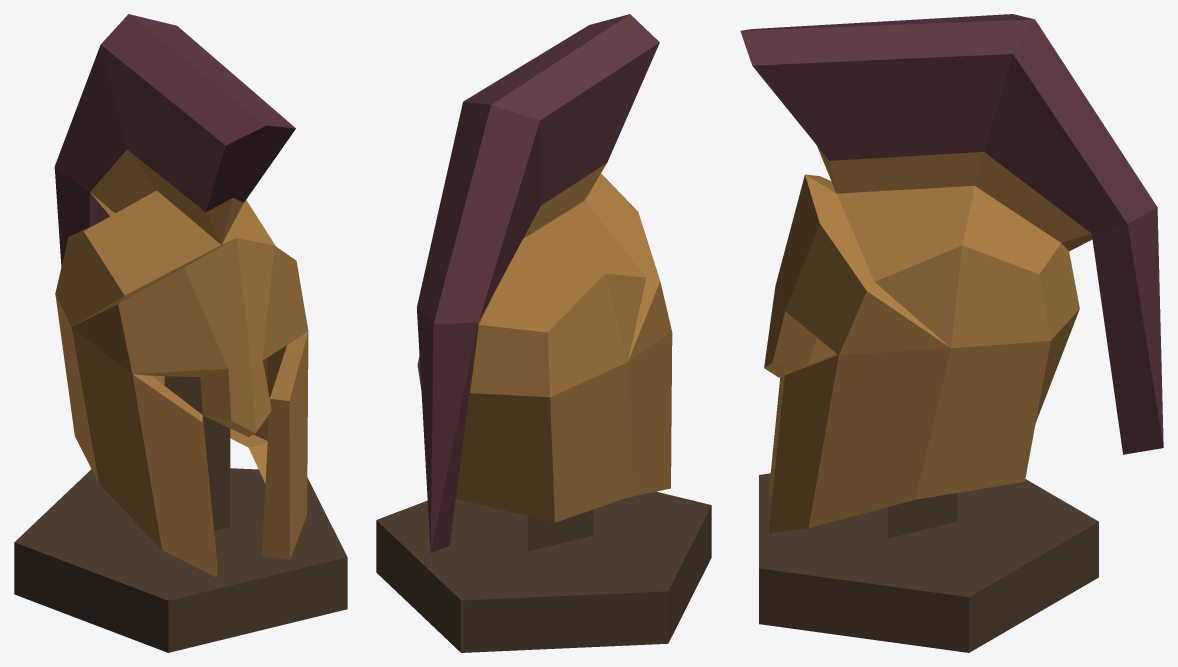
File: SM_Helmet_Stand_Spartan_Empire.fbx
3 views of the same model, side by side, from view 1: azimuth 30°, elevation 25°; view 2: azimuth 150°, elevation 25°; view 3: azimuth 270°, elevation 25° (orthographic). The views are drawn at different scales.
Parts seen in each view (by area): view 1: SM_Helmet_Stand_Spartan_Empire; view 2: SM_Helmet_Stand_Spartan_Empire; view 3: SM_Helmet_Stand_Spartan_Empire.
Part boxes in pixels (<box>): SM_Helmet_Stand_Spartan_Empire: <box>14,14,347,652</box>; SM_Helmet_Stand_Spartan_Empire: <box>376,14,711,652</box>; SM_Helmet_Stand_Spartan_Empire: <box>740,14,1163,652</box>.
Bounding box in the file's own units: 0.2866 × 0.4933 × 0.3392.
